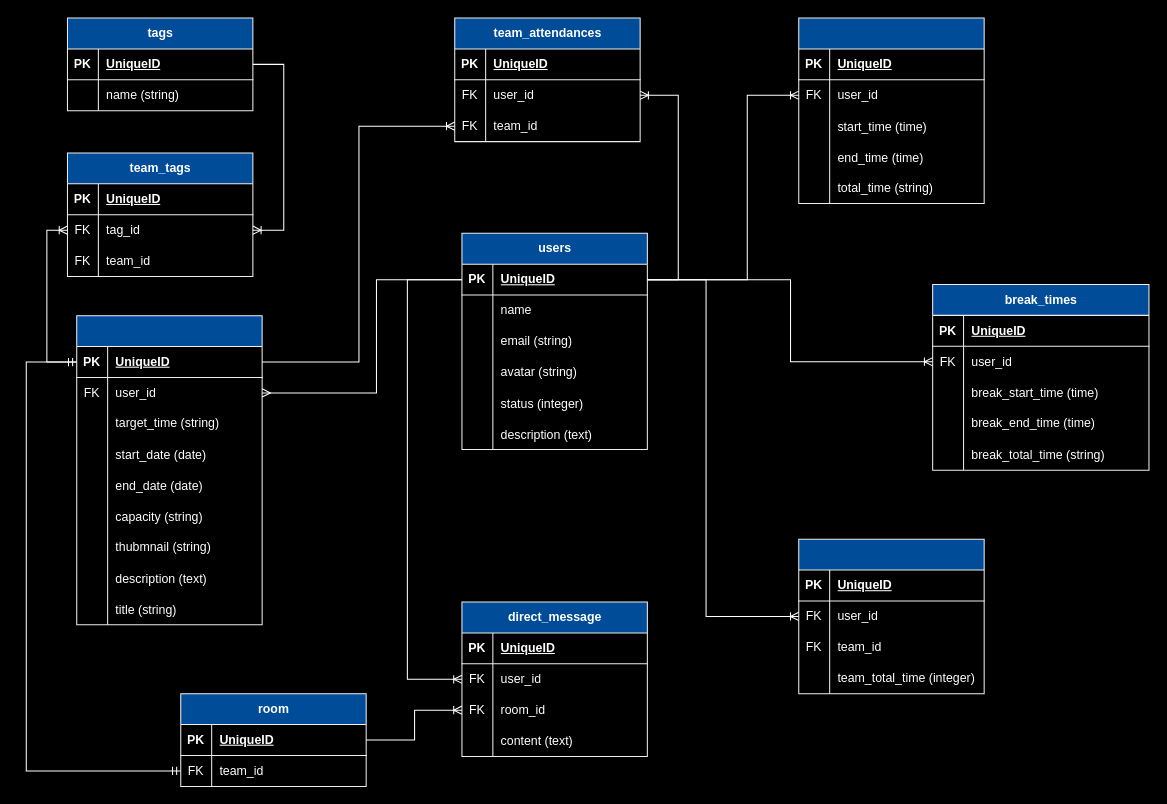
The diagram is 1167 pixels wide and 804 high, and some of its shapes have lost their labels. Here are the shapes that lost their labels. From the top down, the box of each, then its label:
(798, 17, 984, 203): study_times
(76, 315, 262, 625): teams
(798, 538, 984, 694): team_study_times
